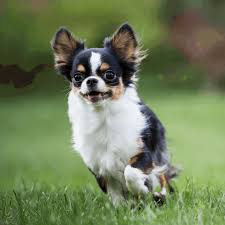chihuahua: (39, 17, 185, 204)
